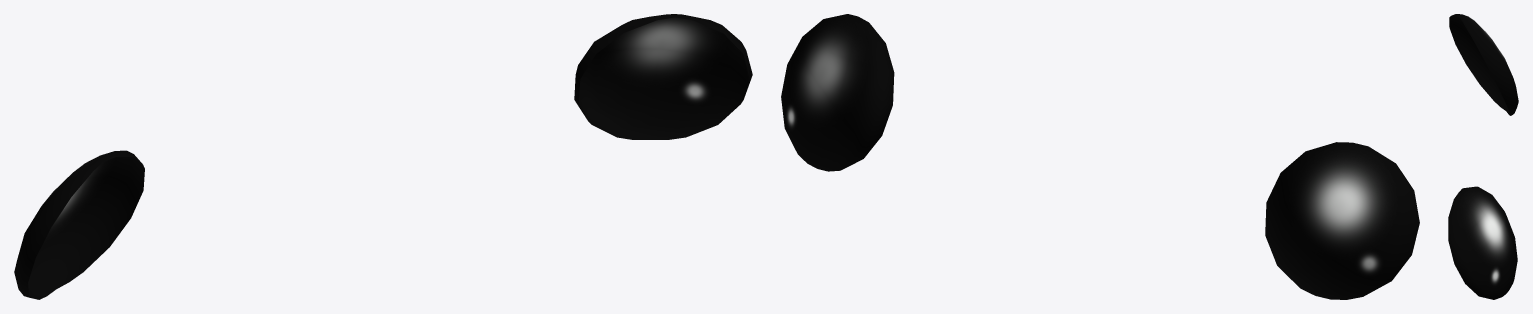
File: Drop@ShootMode.fbx
3 renders of one model, left to right at view 1: azimuth 30°, elevation 25°; view 2: azimuth 150°, elevation 25°; view 3: azimuth 270°, elevation 25°, orthographic. The views are drawn at different scales.
Visible parts, largest first — view 1: Ojo_Der, Ojo_Izq; view 2: Ojo_Izq, Ojo_Der; view 3: Ojo_Der, Ojo_Izq.
Boxes of the visible parts, bbox=[...] form: Ojo_Der: bbox=[574, 14, 752, 139]; Ojo_Izq: bbox=[14, 150, 144, 299]; Ojo_Izq: bbox=[1265, 142, 1419, 299]; Ojo_Der: bbox=[781, 14, 894, 171]; Ojo_Der: bbox=[1448, 186, 1517, 299]; Ojo_Izq: bbox=[1449, 14, 1518, 115].
Bounding box in the file's own units: 10.88 × 2.27 × 1.43.
